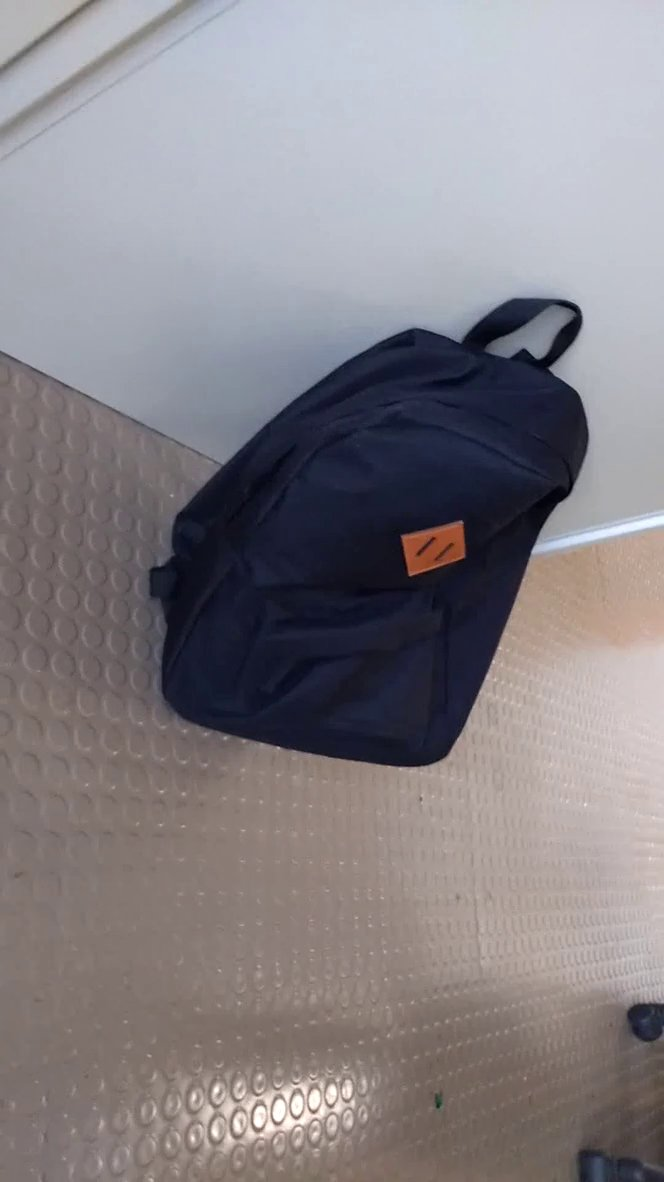bag: (127, 279, 597, 789)
